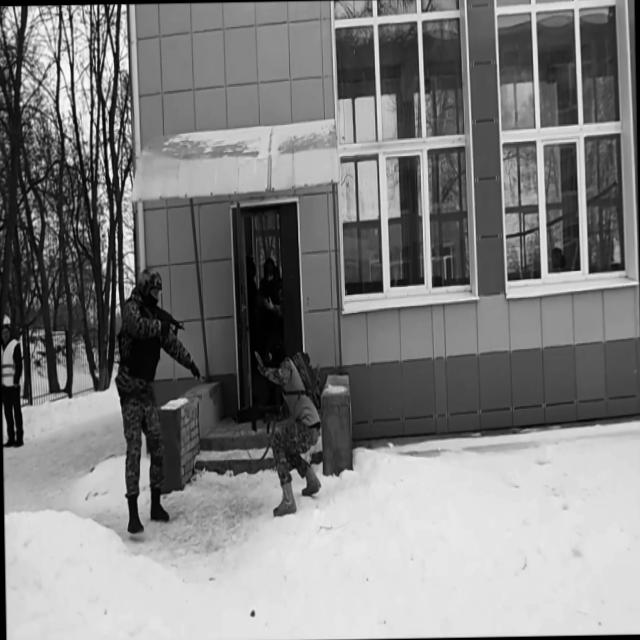gun: (220, 399, 286, 433), (139, 302, 185, 342)
person: (253, 256, 284, 404), (0, 321, 25, 446)
person with a gun: (112, 264, 206, 534), (219, 337, 324, 517)
